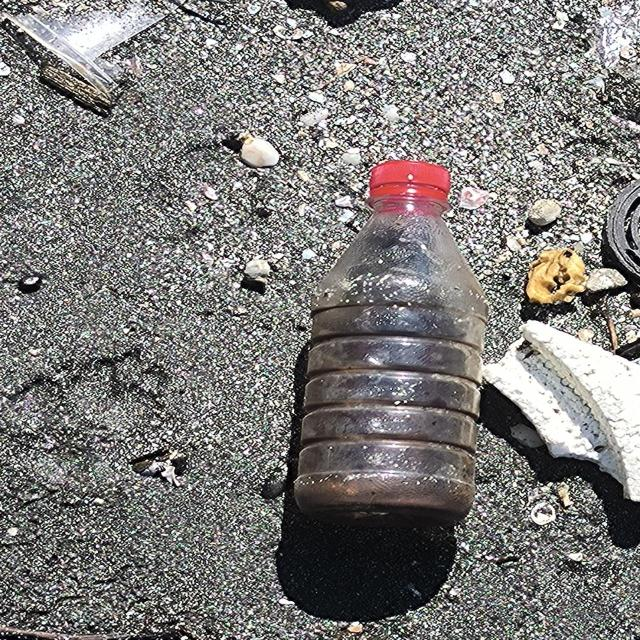plastic_waste: (298, 161, 488, 517)
